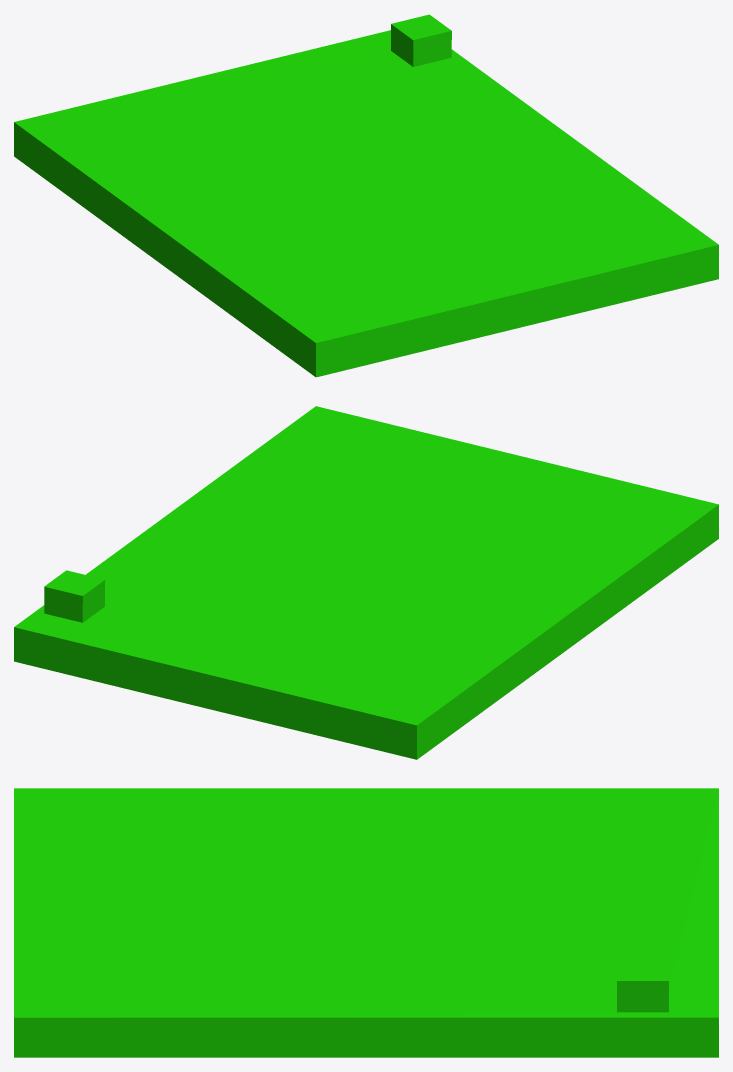
Rendered from SM_Shelf_02_Door_01_Collider.fbx.
3 renders of one model, top to bottom at view 1: azimuth 30°, elevation 25°; view 2: azimuth 150°, elevation 25°; view 3: azimuth 270°, elevation 25°, orthographic. The views are drawn at different scales.
Visible parts, largest first — view 1: SM_Shelf_02_Door_01_Collider; view 2: SM_Shelf_02_Door_01_Collider; view 3: SM_Shelf_02_Door_01_Collider.
Part boxes in pixels (x1,y1,x2,y2): SM_Shelf_02_Door_01_Collider: [14, 14, 718, 377]; SM_Shelf_02_Door_01_Collider: [14, 406, 718, 759]; SM_Shelf_02_Door_01_Collider: [14, 788, 718, 1057].
Bounding box in the file's own units: 64.77 × 9.43 × 84.07.
